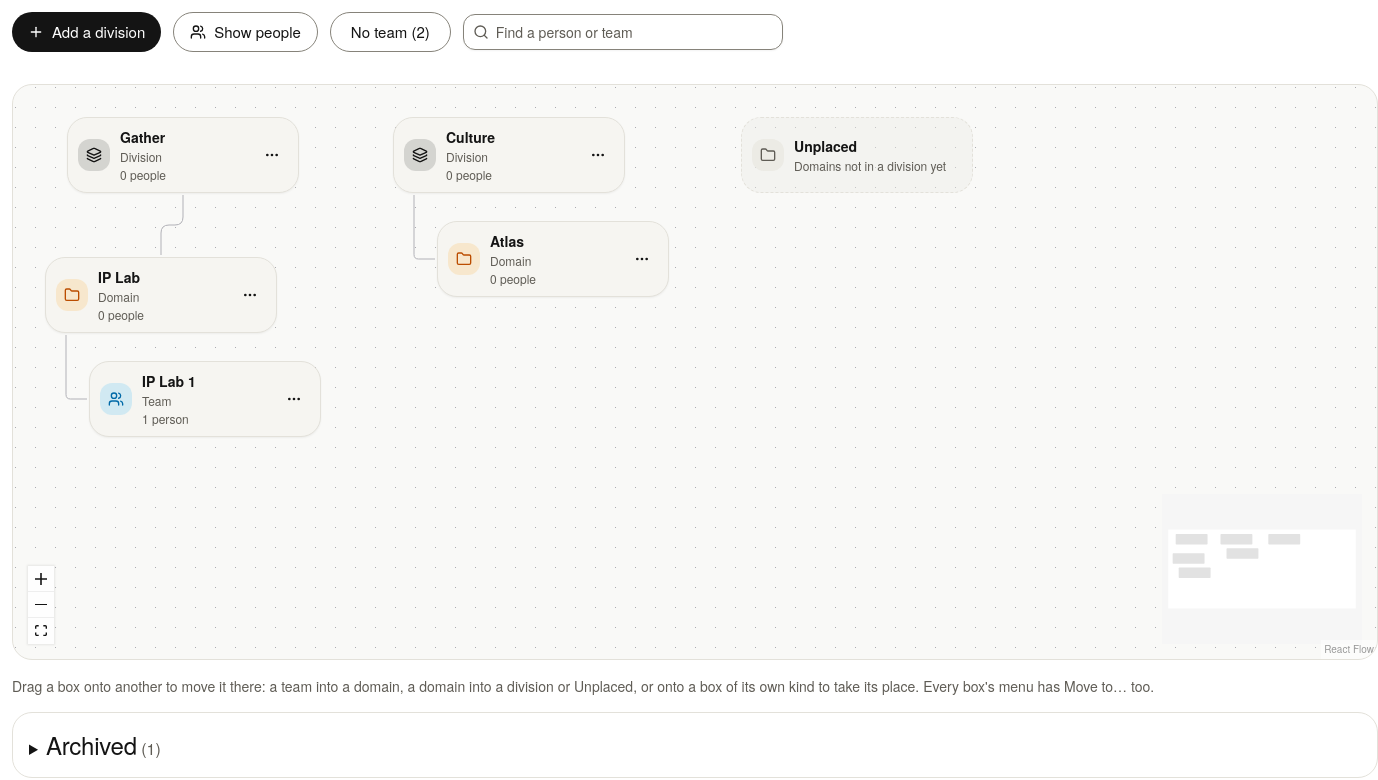
StructureCanvas › counts everyone with no team on No team, and opens them in the side panel with focus on its heading
Click the button "No team (2)". click: (390, 32)
box: [330, 12, 451, 52]
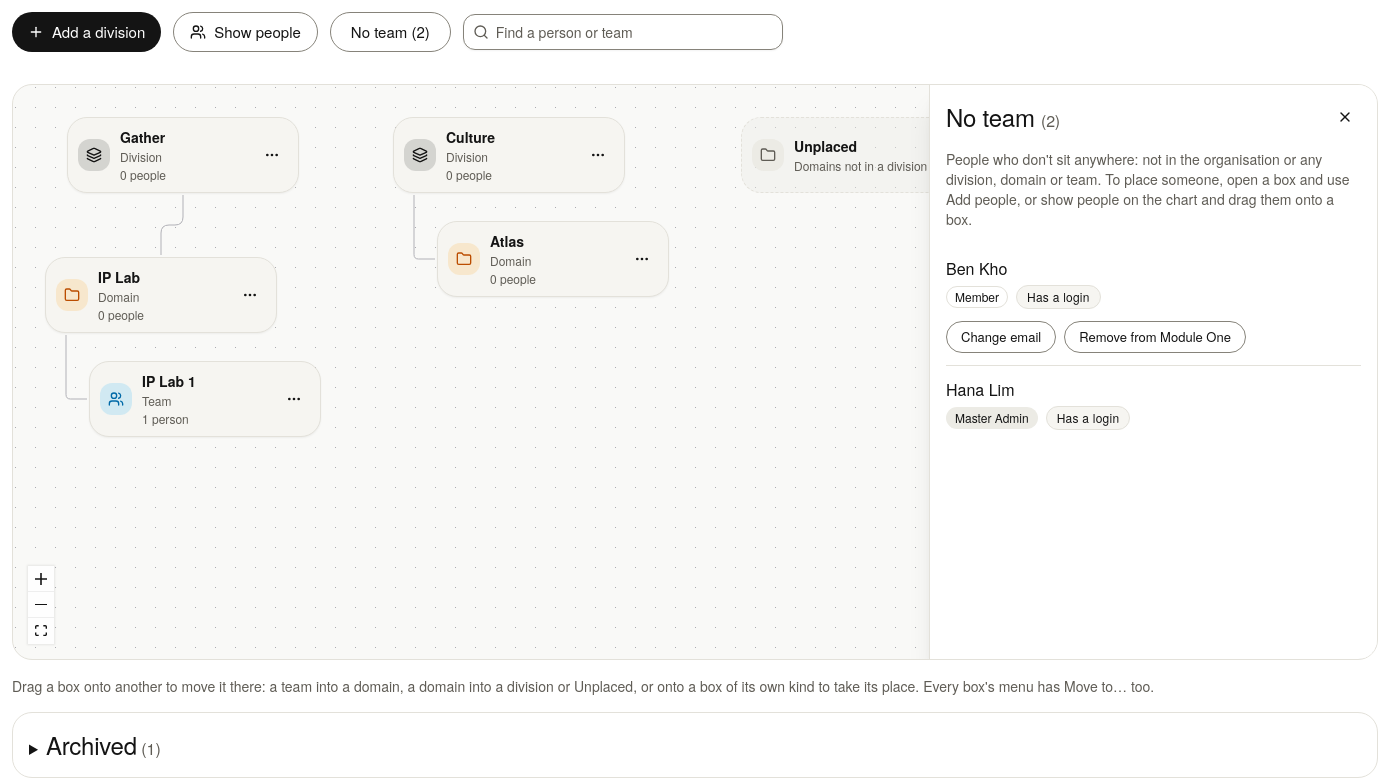
Expected: the element that starts with "No team" shows "Ben Kho", [946, 257, 1007, 280]
Expected: the element that starts with "No team" shows "Hana Lim", [946, 378, 1014, 401]
Expected: the button "Change email" is shown, [946, 321, 1056, 353]
